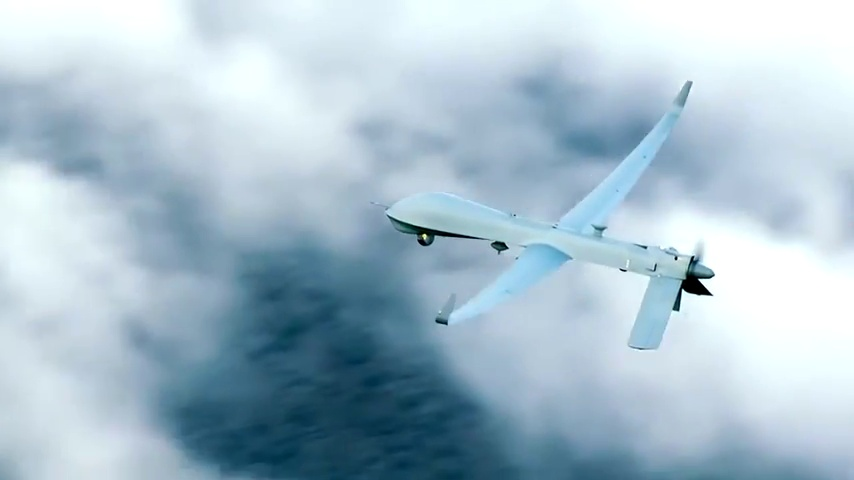military drone: (371, 80, 715, 350)
